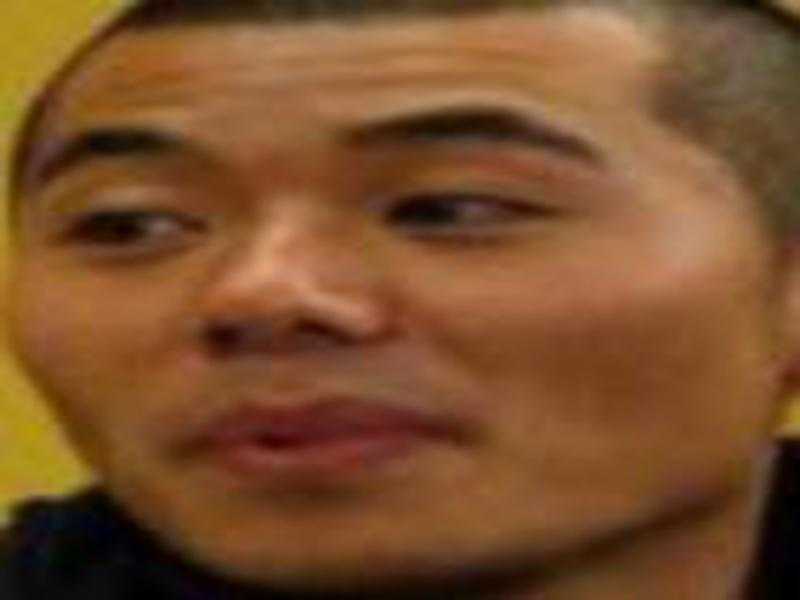without_mask: (14, 95, 785, 572)
